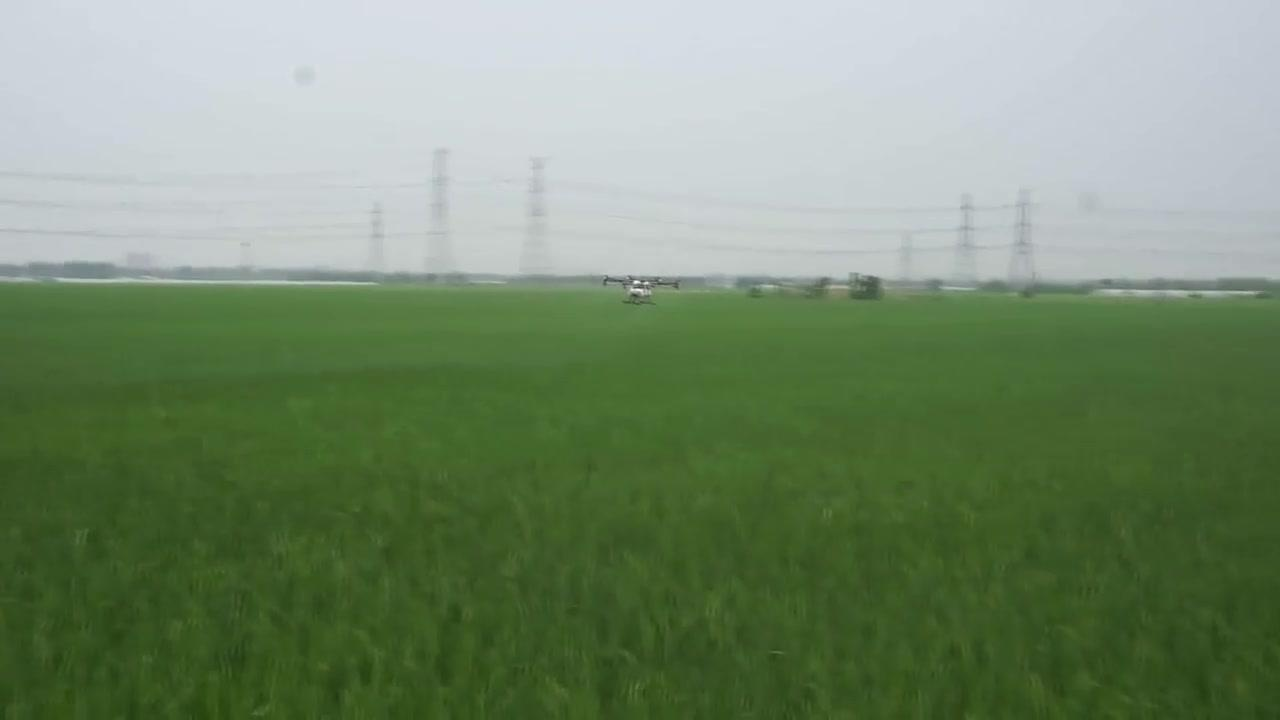UAV: (600, 271, 684, 310)
